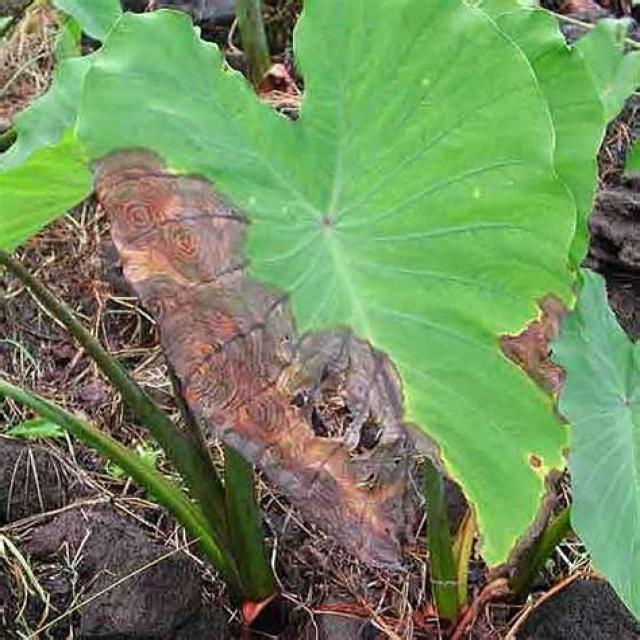blight: (127, 140, 250, 278)
